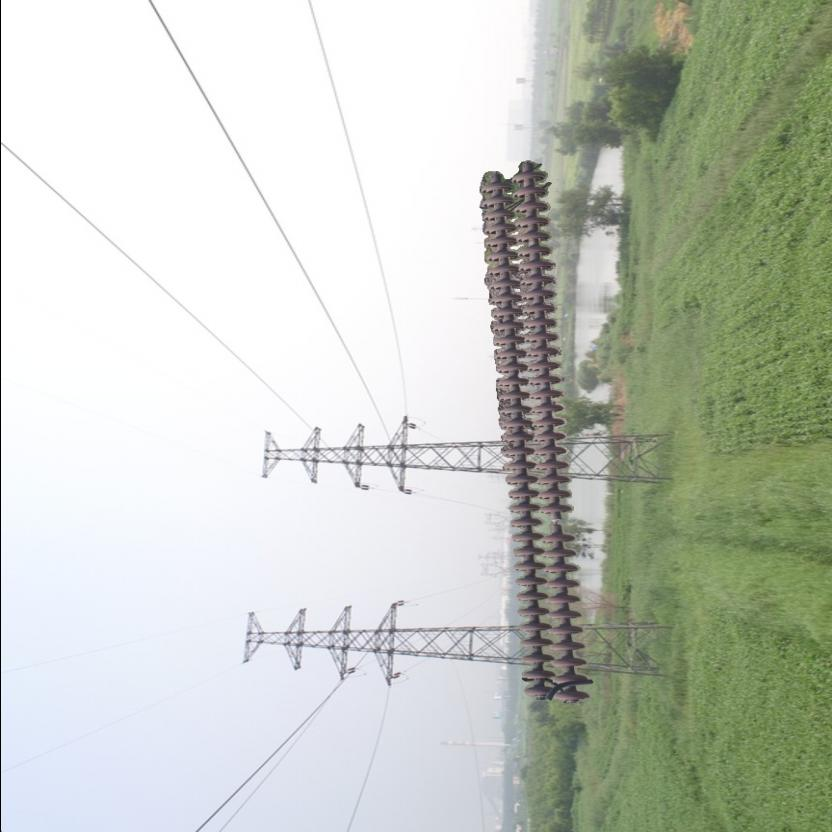defect: (537, 500, 573, 548)
